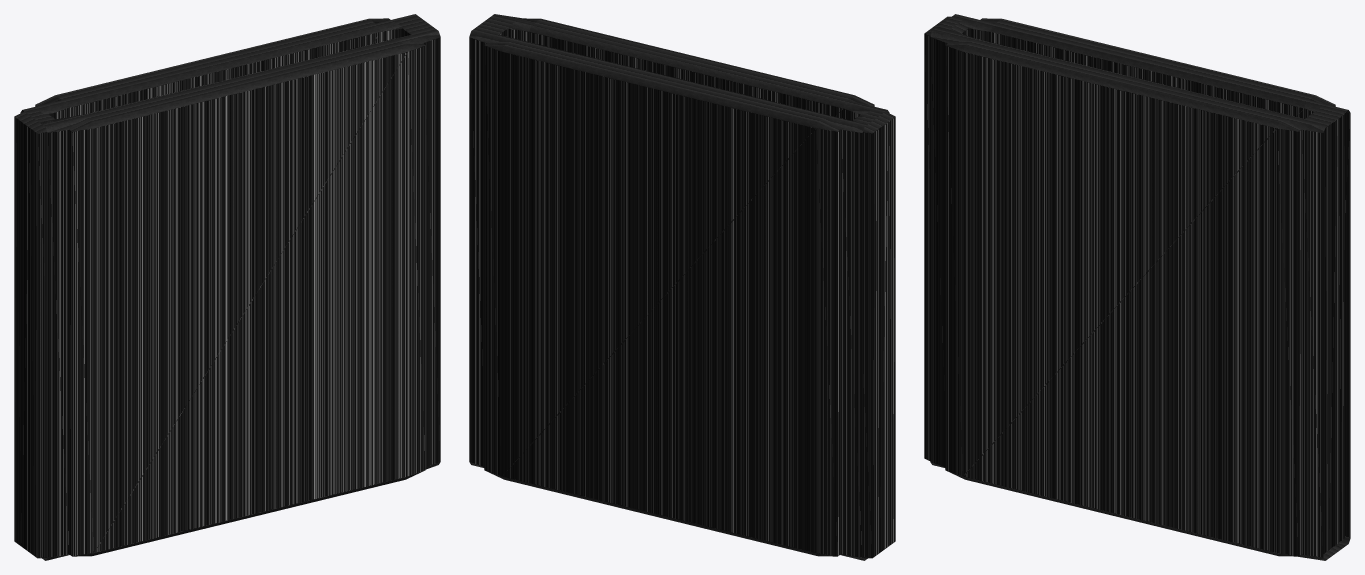
Rendered from wallet.fbx.
The picture shows the model from 3 angles, left to right: view 1: azimuth 30°, elevation 25°; view 2: azimuth 150°, elevation 25°; view 3: azimuth 330°, elevation 25°; orthographic projection.
Visible parts, largest first — view 1: Plane; view 2: Plane; view 3: Plane.
Part boxes in pixels (x1,y1,x2,y2): Plane: (14,14,440,560); Plane: (469,14,895,560); Plane: (924,14,1350,560).
Bounding box in the file's own units: 916 × 947 × 162.
